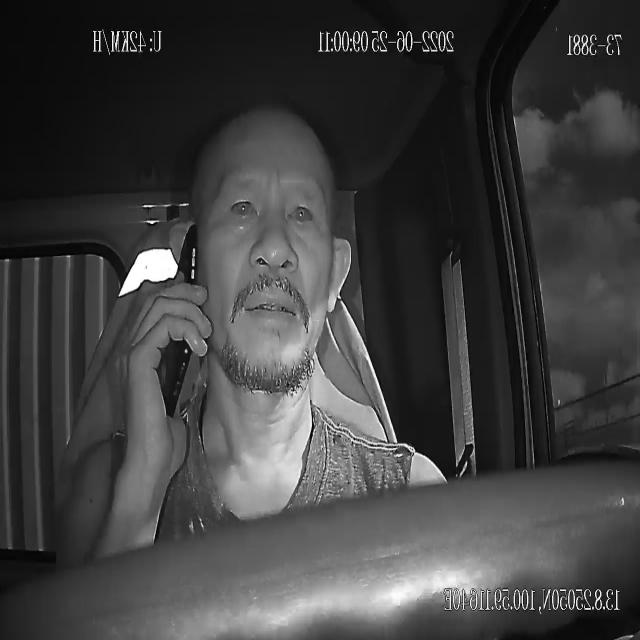phone: (160, 219, 200, 424)
